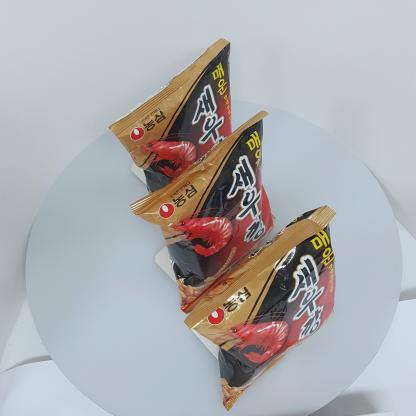Plastic Packaging: (187, 206, 345, 414), (109, 27, 233, 181)
